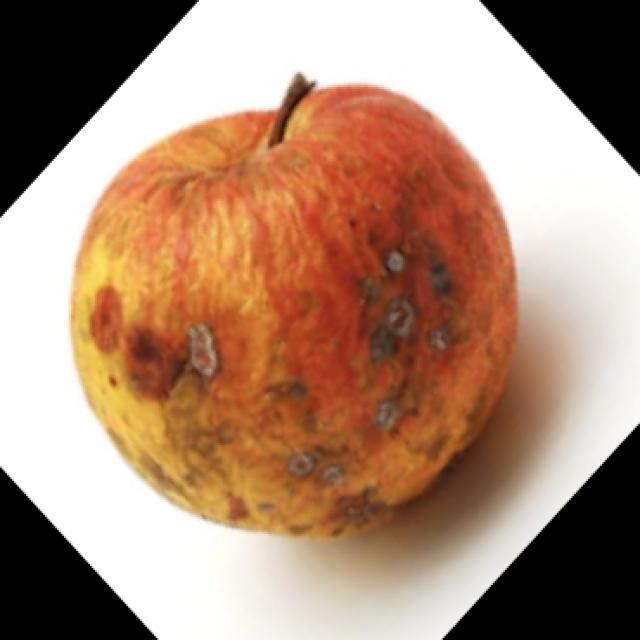Rotten: (83, 89, 502, 514)
